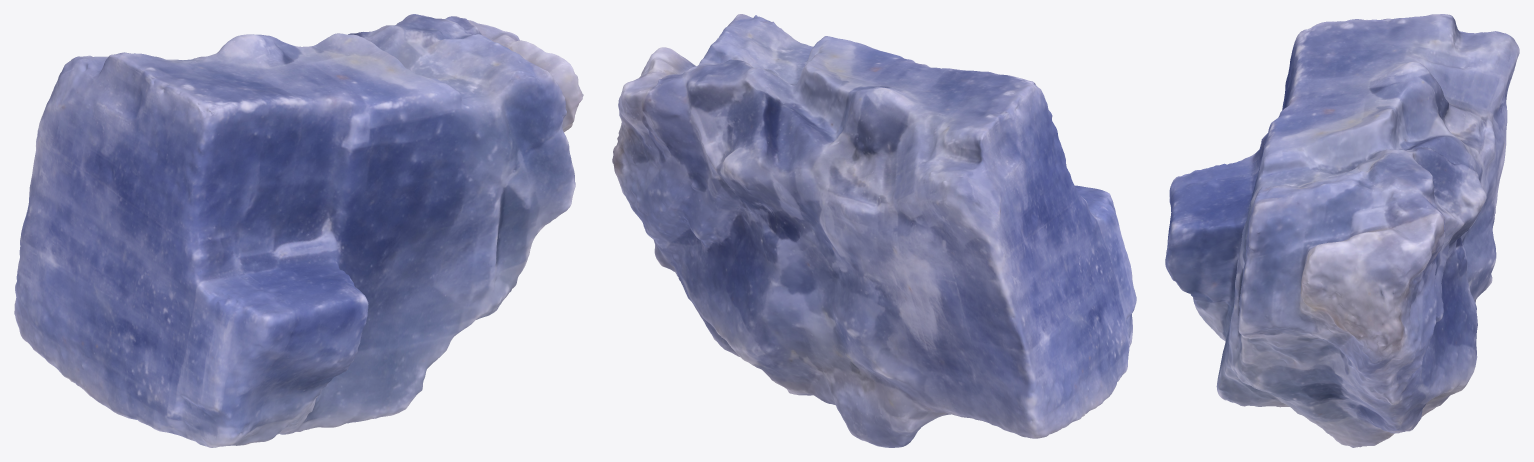
Rendered from calcite.glb.
3 views of the same model, side by side, from view 1: azimuth 30°, elevation 25°; view 2: azimuth 150°, elevation 25°; view 3: azimuth 270°, elevation 25° (orthographic). The views are drawn at different scales.
Visible parts, largest first — view 1: Object_2, Object_3; view 2: Object_2, Object_3; view 3: Object_3, Object_2.
Part boxes in pixels (<box>): Object_2: <box>14,14,583,447</box>; Object_3: <box>214,14,583,427</box>; Object_2: <box>618,14,1136,447</box>; Object_3: <box>612,14,991,411</box>; Object_3: <box>1166,47,1491,447</box>; Object_2: <box>1165,14,1519,410</box>.
Size of the model in its own units: 0.6871 by 0.4761 by 0.4519.
Materials: 1 (1 with a texture image).
